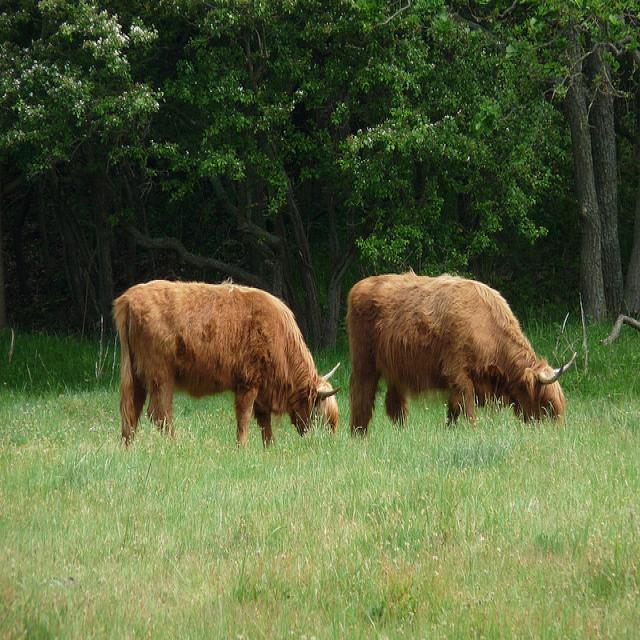cow: (112, 280, 340, 445), (347, 277, 574, 435)
